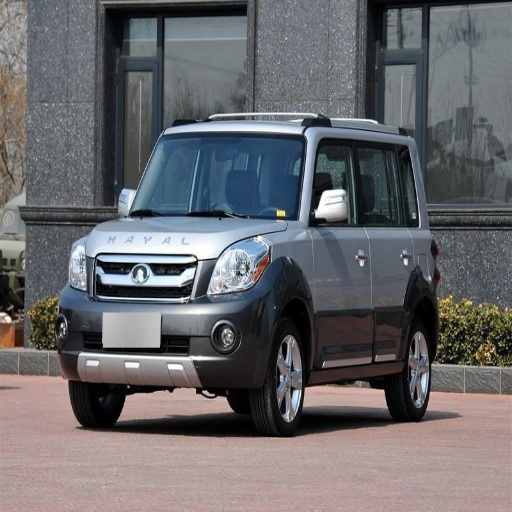front_bumper: (56, 251, 277, 388)
front_glass: (127, 133, 305, 217)
front_left_door: (309, 136, 373, 365)
trunk: (418, 229, 453, 292)
